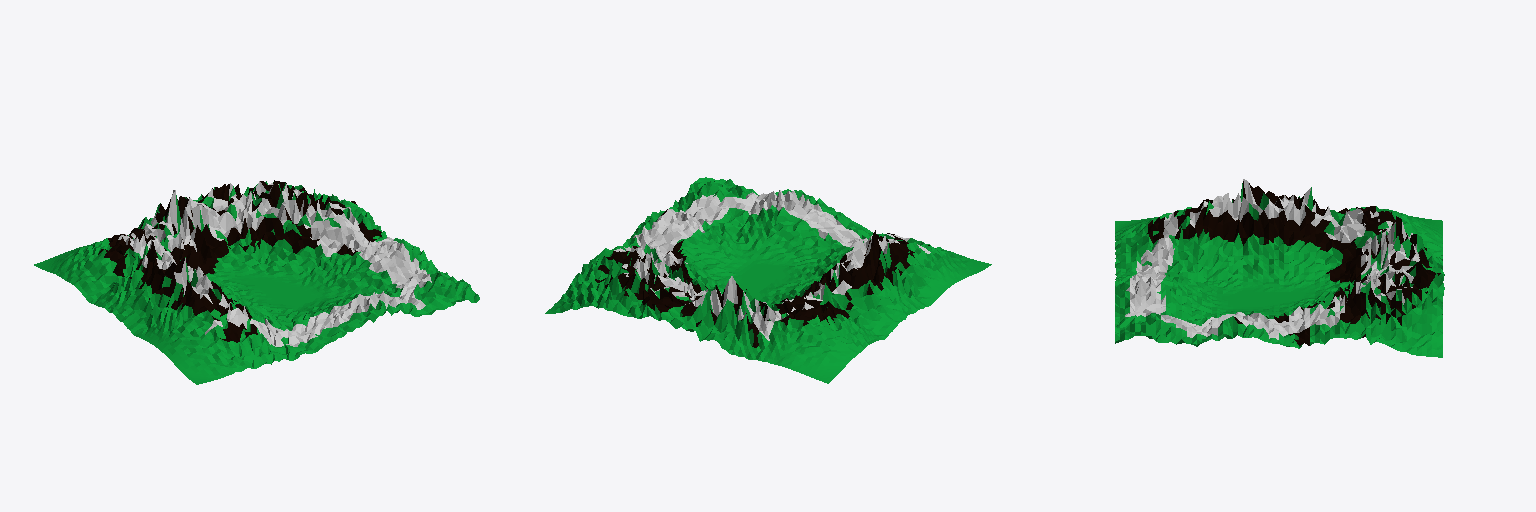
Rendered from mtnsurround2.obj.
3 views of the same model, side by side, from view 1: azimuth 30°, elevation 25°; view 2: azimuth 150°, elevation 25°; view 3: azimuth 270°, elevation 25° (orthographic).
Visible parts, largest first — view 1: Plane; view 2: Plane; view 3: Plane.
Boxes of the visible parts, x1=… form: Plane: x1=34, y1=180, x2=479, y2=384; Plane: x1=545, y1=177, x2=991, y2=383; Plane: x1=1115, y1=179, x2=1444, y2=357.
Size of the model in its own units: 15.71 by 3.6 by 15.83.